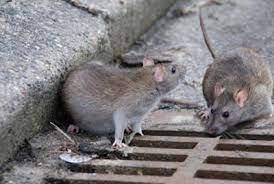rat: (62, 57, 186, 150), (197, 10, 272, 134)
